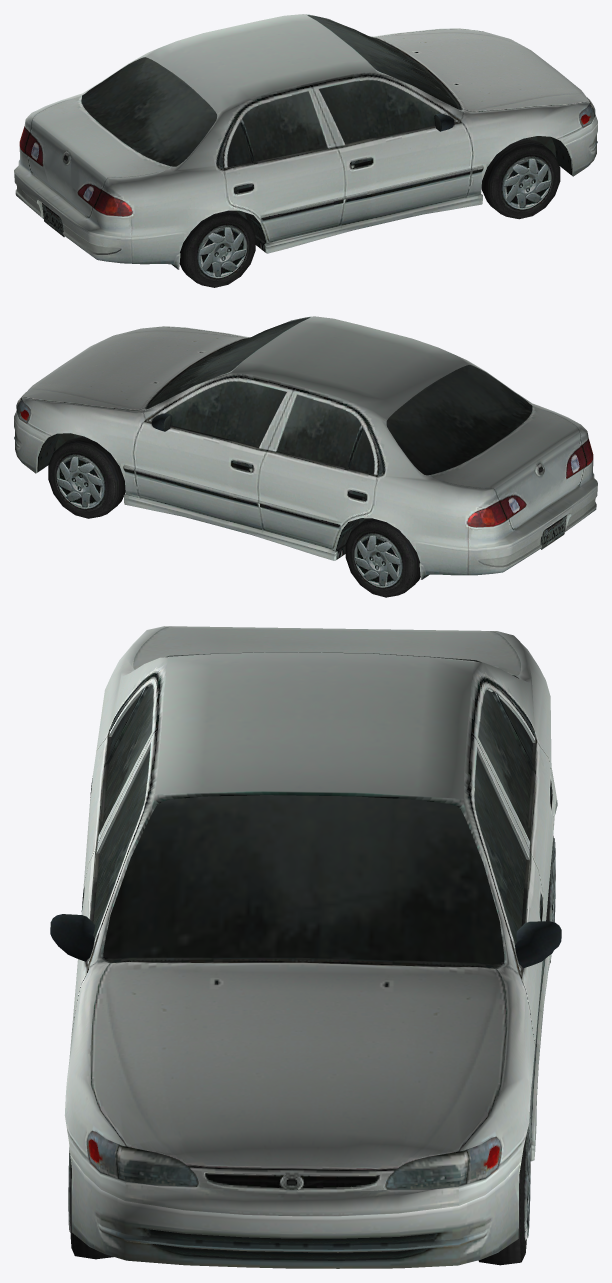
The model's file is white_car.fbx.
3 renders of one model, top to bottom at view 1: azimuth 30°, elevation 25°; view 2: azimuth 150°, elevation 25°; view 3: azimuth 270°, elevation 25°, orthographic. The views are drawn at different scales.
Visible parts, largest first — view 1: white_car.001; view 2: white_car.001; view 3: white_car.001.
Boxes of the visible parts, box(x1,y1,x2,y2) form: white_car.001: box(14, 14, 597, 287); white_car.001: box(14, 316, 597, 597); white_car.001: box(50, 626, 561, 1268).
Size of the model in its own units: 5.01 by 1.6 by 2.16.
1 material, 1 textured.
